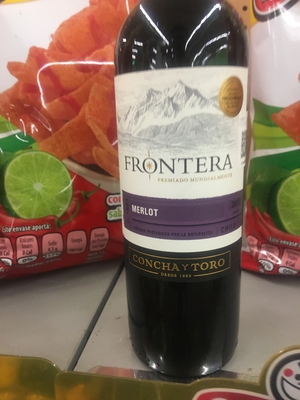frontera merlot: (94, 19, 280, 375)
